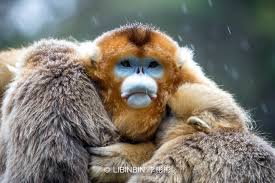GoldenSnub-Nosed: (94, 30, 192, 135)
